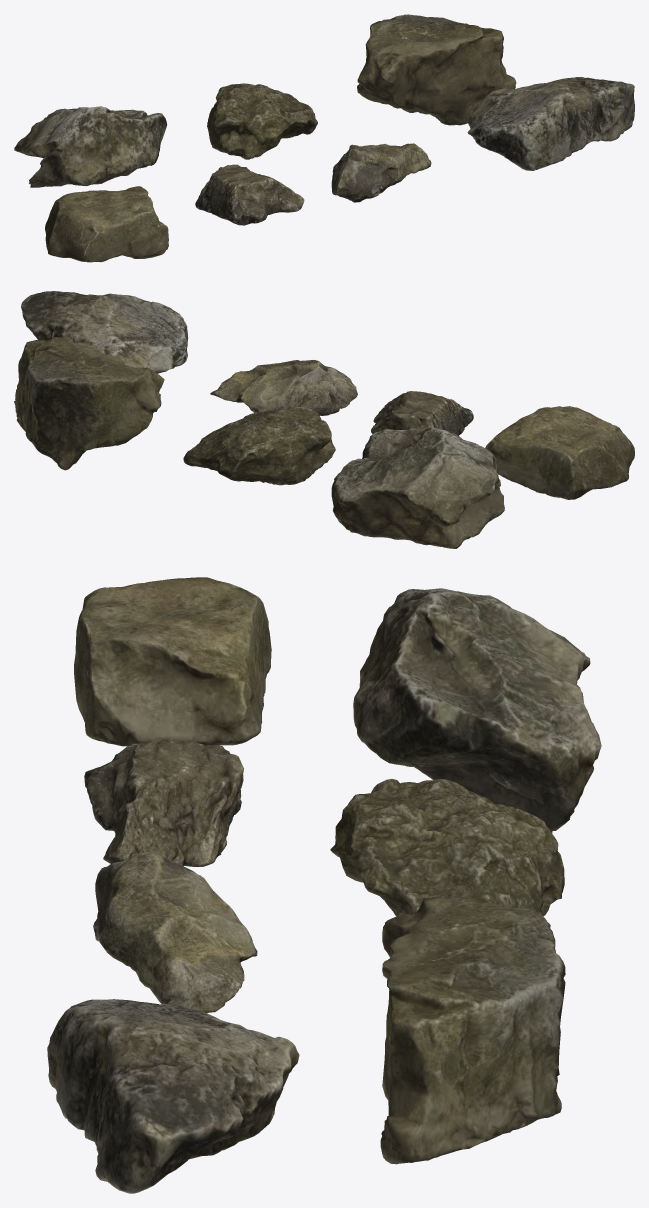
File: rock_moss_set_02.glb
3 renders of one model, top to bottom at view 1: azimuth 30°, elevation 25°; view 2: azimuth 150°, elevation 25°; view 3: azimuth 270°, elevation 25°, orthographic. The views are drawn at different scales.
Parts seen in each view (by area): view 1: rock_moss_set_02_rock08; view 2: rock_moss_set_02_rock08; view 3: rock_moss_set_02_rock08.
Boxes of the visible parts, x1=… form: rock_moss_set_02_rock08: x1=14, y1=14, x2=634, y2=262; rock_moss_set_02_rock08: x1=14, y1=291, x2=634, y2=548; rock_moss_set_02_rock08: x1=47, y1=577, x2=601, y2=1193.
Size of the model in its own units: 8.28 by 1.37 by 3.41.
Materials: 1 (1 with a texture image).
